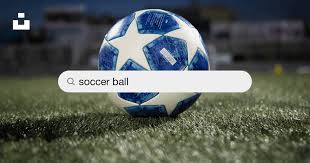football ball: (97, 9, 218, 115)
